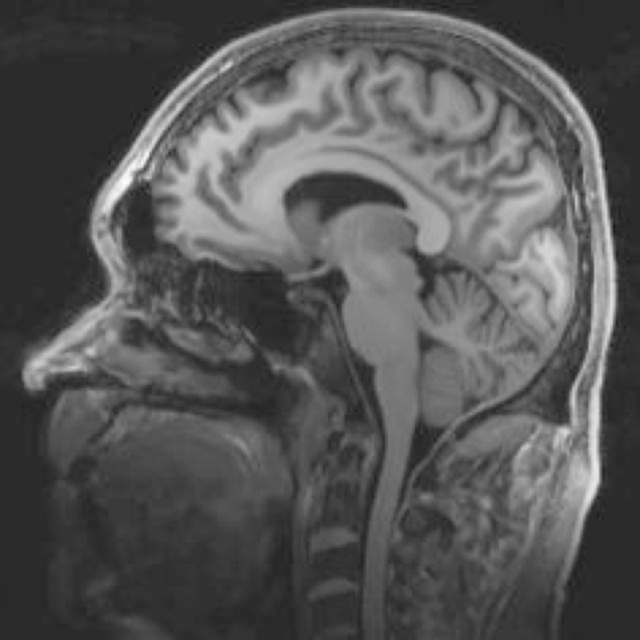glioma tumor: (192, 49, 570, 418)
